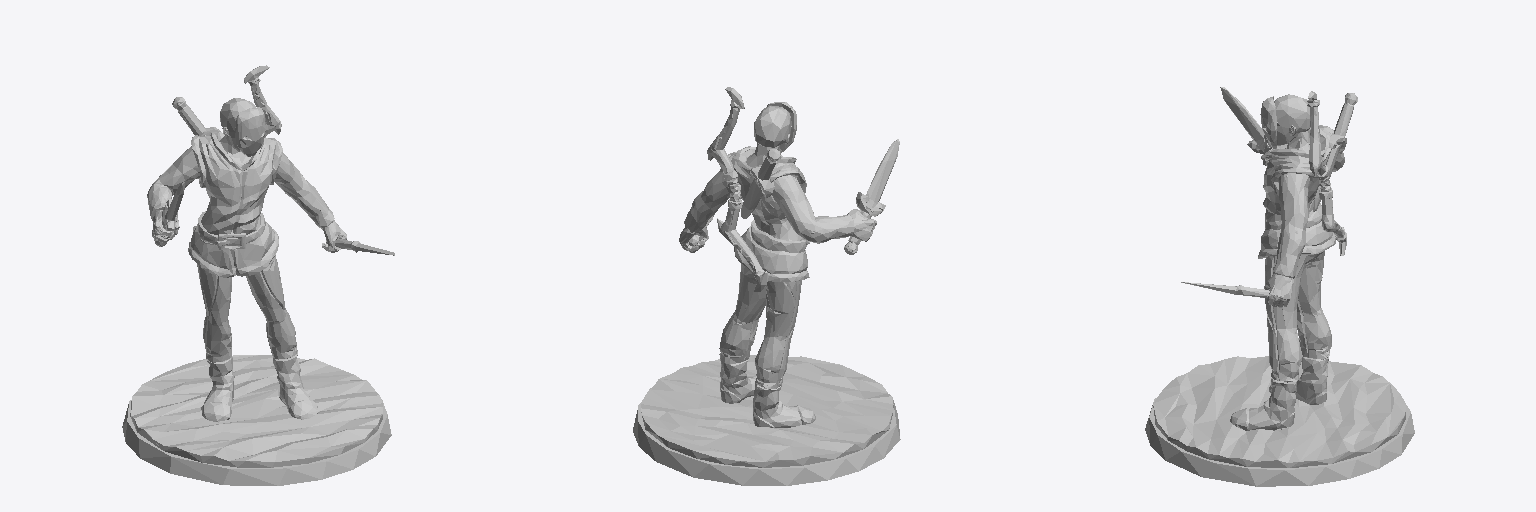
File: Michael Deepshadow v1.obj
3 renders of one model, left to right at view 1: azimuth 30°, elevation 25°; view 2: azimuth 150°, elevation 25°; view 3: azimuth 270°, elevation 25°, orthographic.
Visible parts, largest first — view 1: Michael_Deepshadow; view 2: Michael_Deepshadow; view 3: Michael_Deepshadow.
Boxes of the visible parts, x1,y1,x2,y2 form: Michael_Deepshadow: [122, 65, 394, 485]; Michael_Deepshadow: [633, 87, 900, 485]; Michael_Deepshadow: [1145, 87, 1414, 486].
Bounding box in the file's own units: 0.7604 × 1.09 × 0.7667.